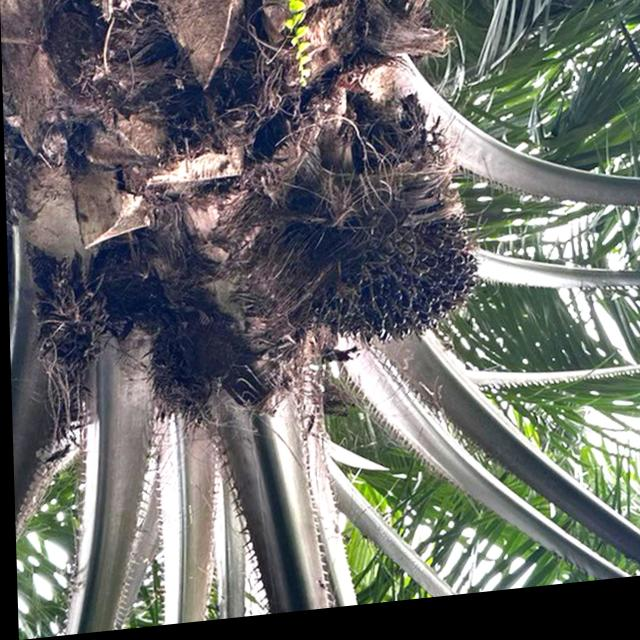unripe: (300, 203, 487, 362)
